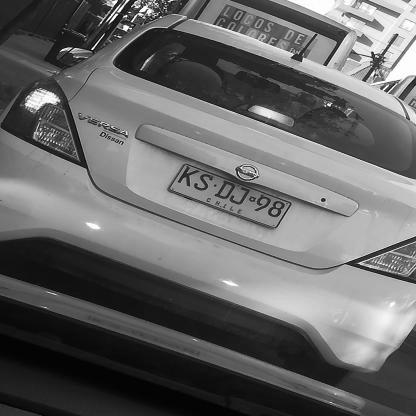Patente: (159, 164, 295, 231)
